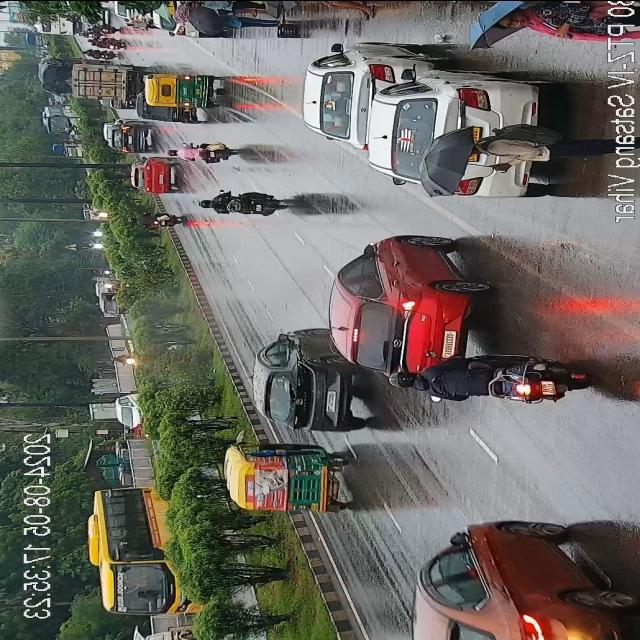2-wheelers: (372, 357, 596, 399), (199, 182, 283, 222), (170, 135, 240, 166), (130, 207, 182, 231), (123, 426, 154, 440), (88, 38, 125, 49), (86, 25, 124, 34), (109, 353, 135, 363), (85, 50, 116, 58), (77, 31, 105, 36)
auto: (220, 442, 354, 518), (138, 71, 214, 127), (98, 294, 124, 315)
bus: (84, 484, 208, 624), (41, 104, 80, 134), (34, 16, 78, 34)
car: (406, 515, 640, 640), (326, 228, 492, 376), (371, 69, 478, 195), (254, 329, 364, 437), (301, 44, 410, 140), (126, 154, 179, 196), (114, 122, 154, 154), (113, 392, 143, 422), (104, 124, 128, 154)
pedestrian: (452, 119, 618, 168), (488, 0, 603, 43), (180, 0, 276, 36), (294, 0, 384, 22), (185, 0, 269, 9)
truck: (72, 62, 138, 100), (40, 58, 98, 92)
